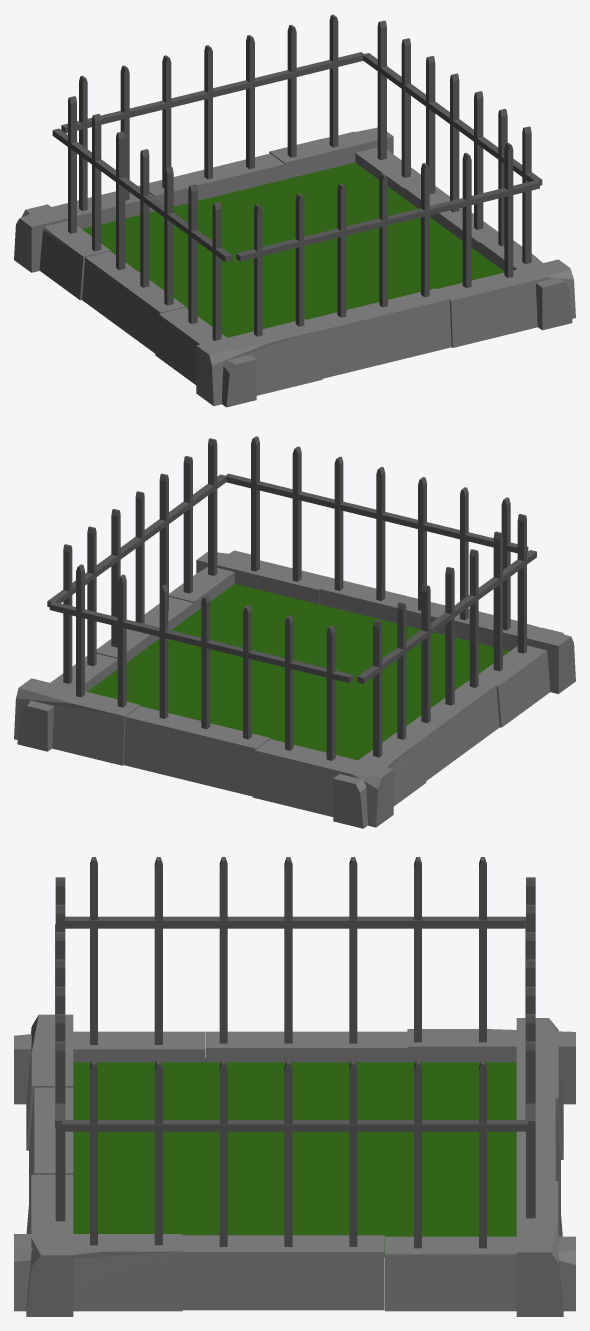
File: SM_platform_grass.fbx
3 renders of one model, top to bottom at view 1: azimuth 30°, elevation 25°; view 2: azimuth 150°, elevation 25°; view 3: azimuth 270°, elevation 25°, orthographic. The views are drawn at different scales.
Visible parts, largest first — view 1: Box5808; view 2: Box5808; view 3: Box5808.
Part boxes in pixels (bbox=[...]): Box5808: bbox=[14, 14, 575, 407]; Box5808: bbox=[14, 436, 575, 828]; Box5808: bbox=[14, 857, 575, 1316].
Bounding box in the file's own units: 99.88 × 46.86 × 99.88.
